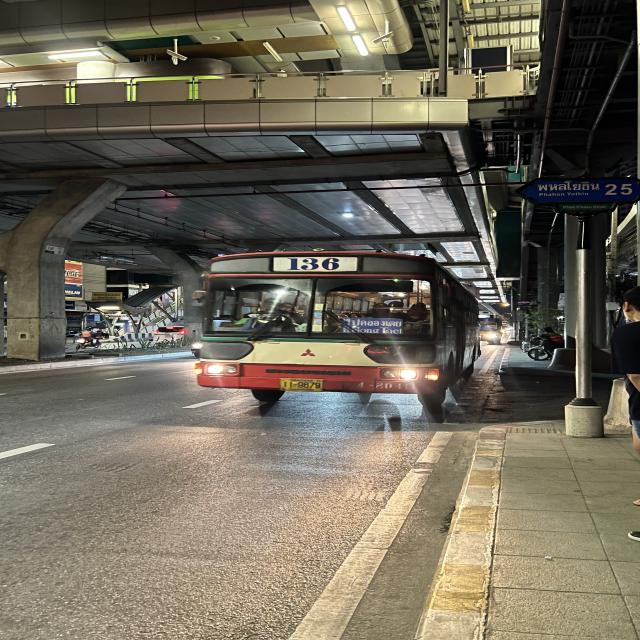BMTA-bus: (191, 250, 481, 421)
Bus Line Number: (280, 255, 350, 273)
Bus Side Number: (353, 379, 420, 393)
Destination Sign: (342, 317, 402, 336)
